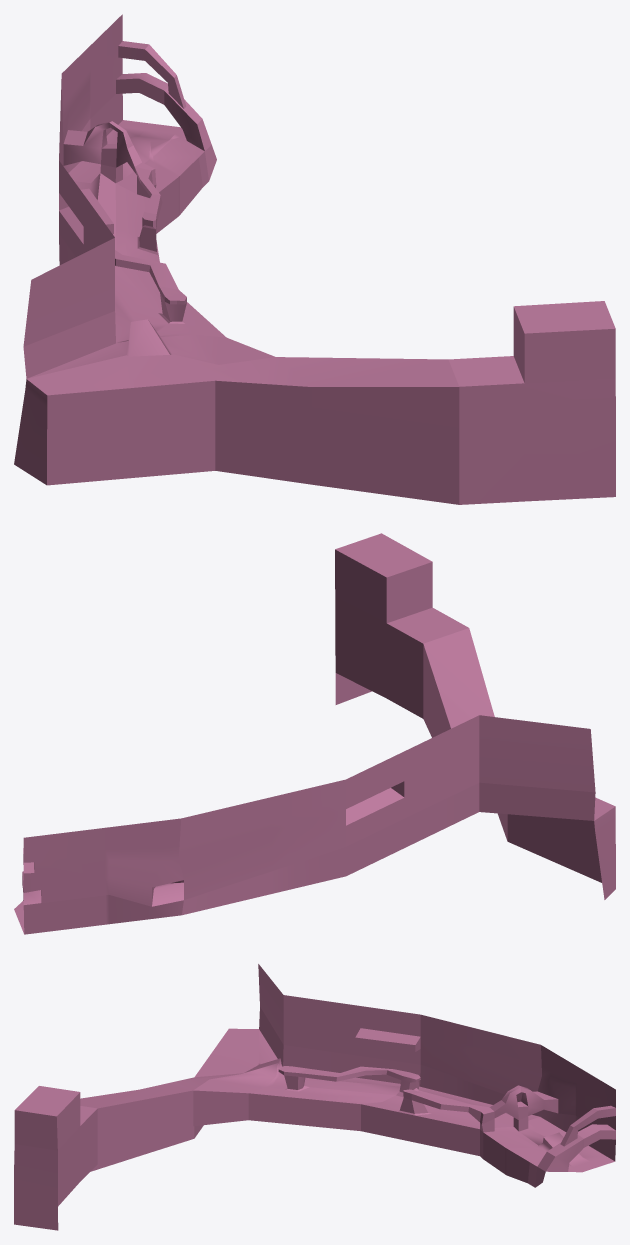
The model's file is terrain_W3A7.fbx.
The picture shows the model from 3 angles, top to bottom: view 1: azimuth 30°, elevation 25°; view 2: azimuth 150°, elevation 25°; view 3: azimuth 270°, elevation 25°; orthographic projection. The views are drawn at different scales.
Parts seen in each view (by area): view 1: W3A7_mesh; view 2: W3A7_mesh; view 3: W3A7_mesh.
Part boxes in pixels (x1,y1,x2,y2): W3A7_mesh: [14, 14, 615, 504]; W3A7_mesh: [14, 533, 615, 934]; W3A7_mesh: [14, 964, 615, 1230].
Bounding box in the file's own units: 25694 × 10772 × 44464.
